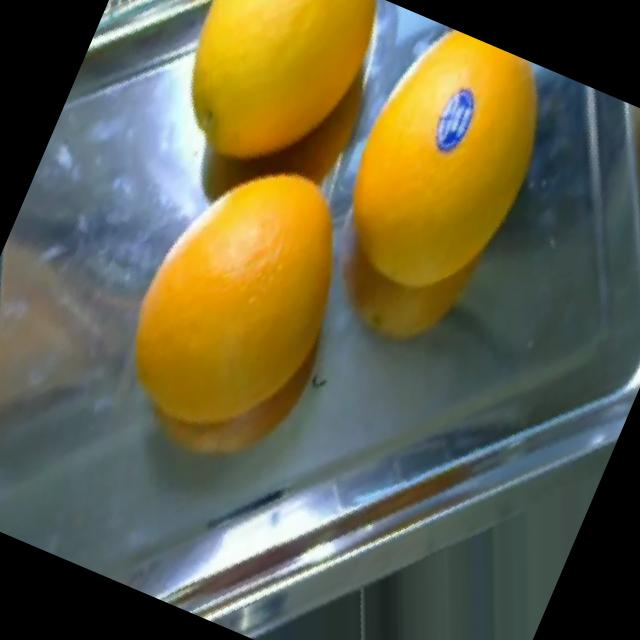Fruit: (90, 271, 346, 518)
